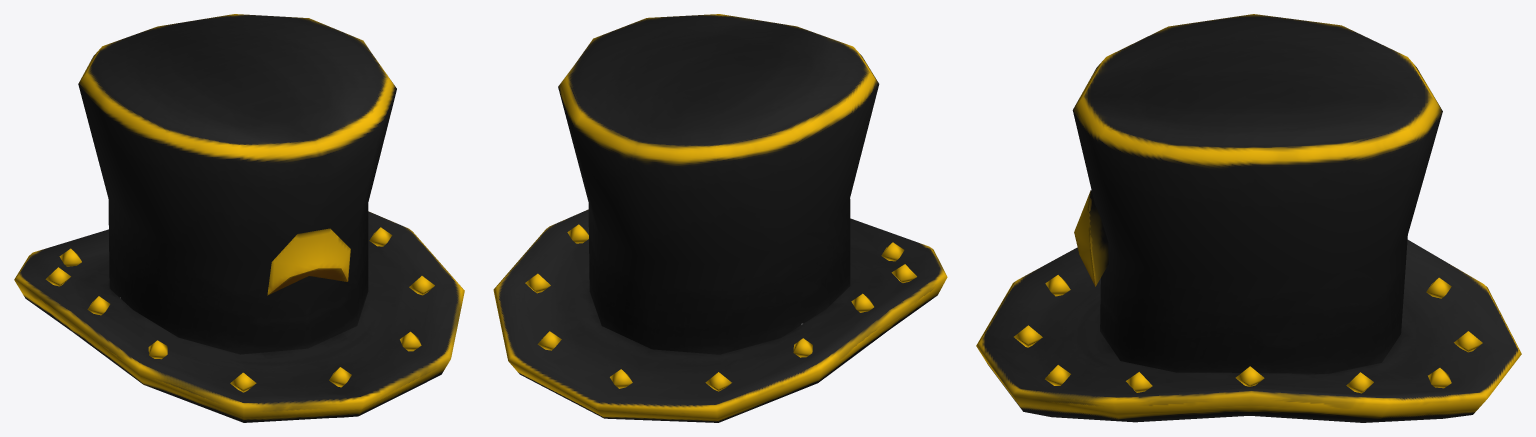
The model's file is M_Hat_Hat_Of_Wonder.glb.
3 views of the same model, side by side, from view 1: azimuth 30°, elevation 25°; view 2: azimuth 150°, elevation 25°; view 3: azimuth 270°, elevation 25° (orthographic). The views are drawn at different scales.
Parts seen in each view (by area): view 1: M_Hat_Hat_Of_Wonder; view 2: M_Hat_Hat_Of_Wonder; view 3: M_Hat_Hat_Of_Wonder.
Part boxes in pixels (box(x1,y1,x2,y2)): M_Hat_Hat_Of_Wonder: box(14, 14, 464, 422); M_Hat_Hat_Of_Wonder: box(493, 14, 947, 422); M_Hat_Hat_Of_Wonder: box(976, 14, 1521, 422).
Size of what is drawn, in the model's own units: 1.08 by 0.81 by 1.33.
1 material, 1 textured.
